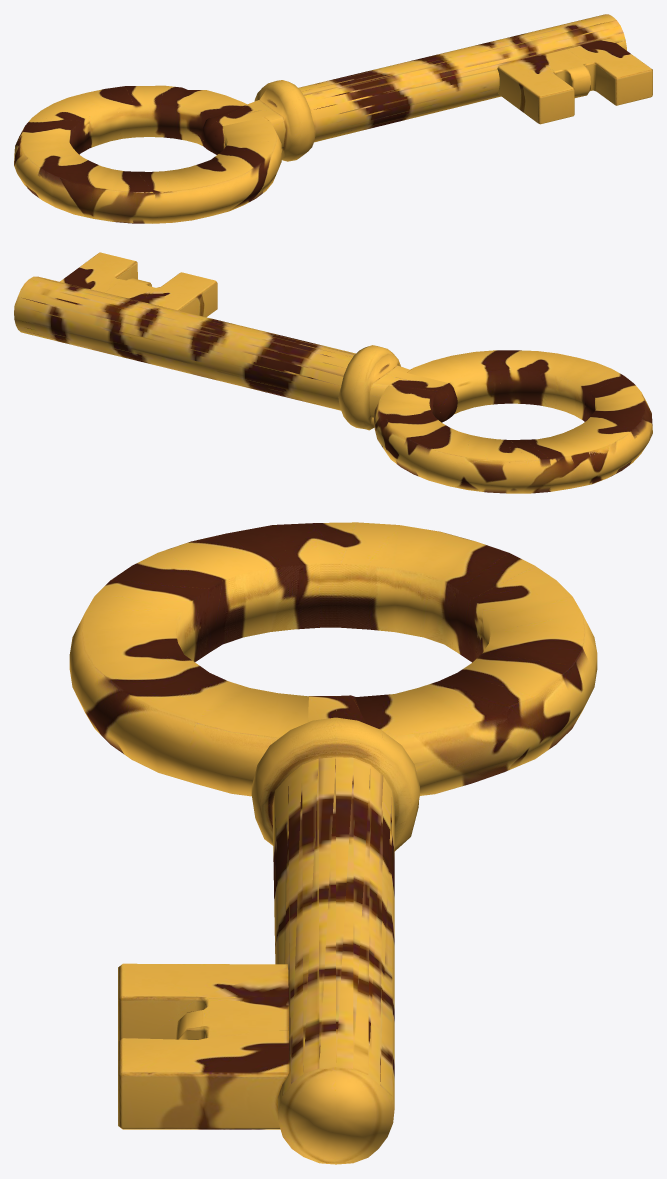
The model's file is Key.fbx.
The picture shows the model from 3 angles, top to bottom: view 1: azimuth 30°, elevation 25°; view 2: azimuth 150°, elevation 25°; view 3: azimuth 270°, elevation 25°; orthographic projection. The views are drawn at different scales.
Parts seen in each view (by area): view 1: Key; view 2: Key; view 3: Key.
Boxes of the visible parts, left/top/right/bottom form: Key: left=14, top=14, right=652, bottom=223; Key: left=14, top=252, right=652, bottom=493; Key: left=69, top=522, right=597, bottom=1164.
Size of the model in its own units: 0.7 by 0.0853 by 0.2752.
Materials: 1 (1 with a texture image).
